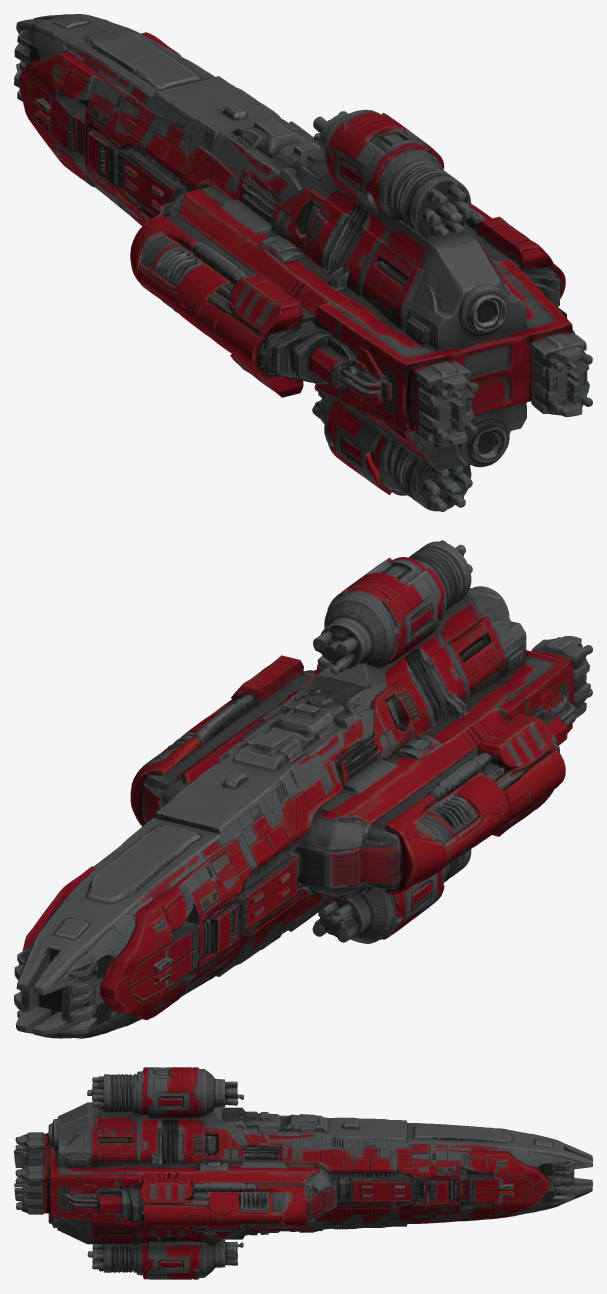
Rendered from ship-red.glb.
3 renders of one model, top to bottom at view 1: azimuth 30°, elevation 25°; view 2: azimuth 150°, elevation 25°; view 3: azimuth 270°, elevation 25°, orthographic. The views are drawn at different scales.
Parts seen in each view (by area): view 1: tripo_node_46db9e19-d327-498f-8dc5-c6c05189768d; view 2: tripo_node_46db9e19-d327-498f-8dc5-c6c05189768d; view 3: tripo_node_46db9e19-d327-498f-8dc5-c6c05189768d.
Boxes of the visible parts, left/top/right/bottom form: tripo_node_46db9e19-d327-498f-8dc5-c6c05189768d: left=14, top=14, right=592, bottom=511; tripo_node_46db9e19-d327-498f-8dc5-c6c05189768d: left=14, top=540, right=592, bottom=1038; tripo_node_46db9e19-d327-498f-8dc5-c6c05189768d: left=14, top=1067, right=592, bottom=1279.
Bounding box in the file's own units: 0.3703 × 0.396 × 0.9982.
1 material, 1 textured.
